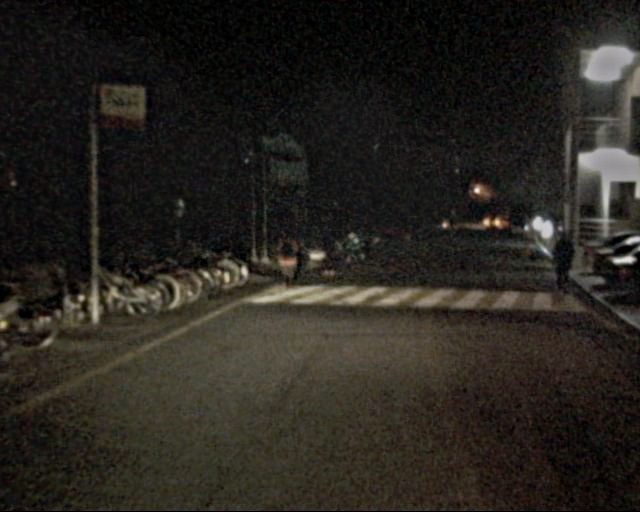person: (271, 227, 298, 294), (548, 231, 575, 298), (318, 222, 341, 277)
